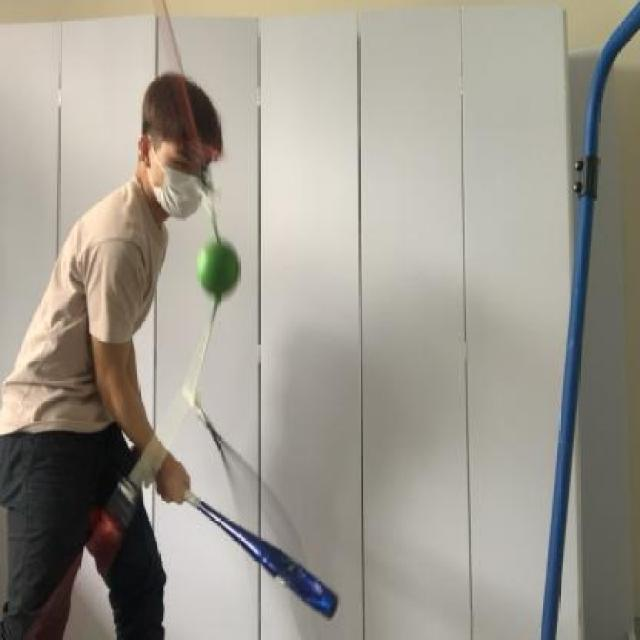baseball: (196, 231, 249, 303)
